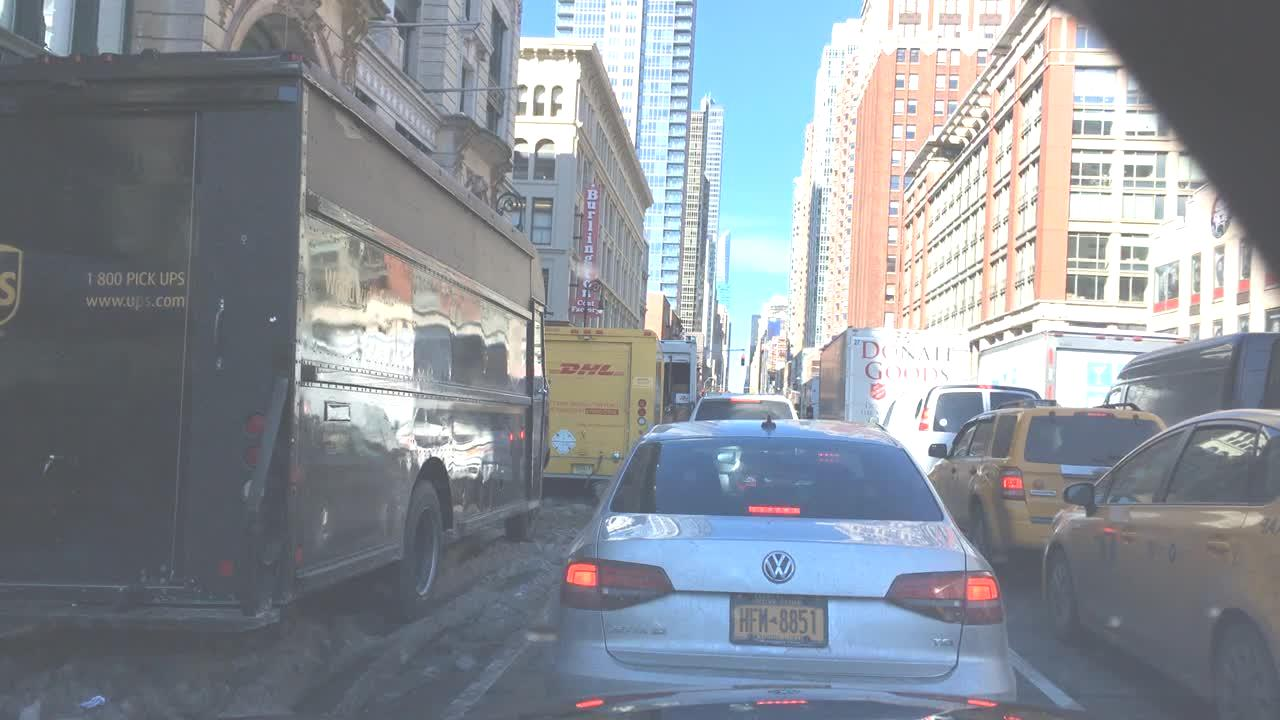Volkswagen: (760, 543, 797, 586)
